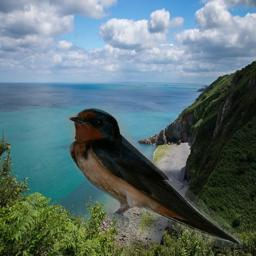Swallow: (64, 105, 243, 248)
